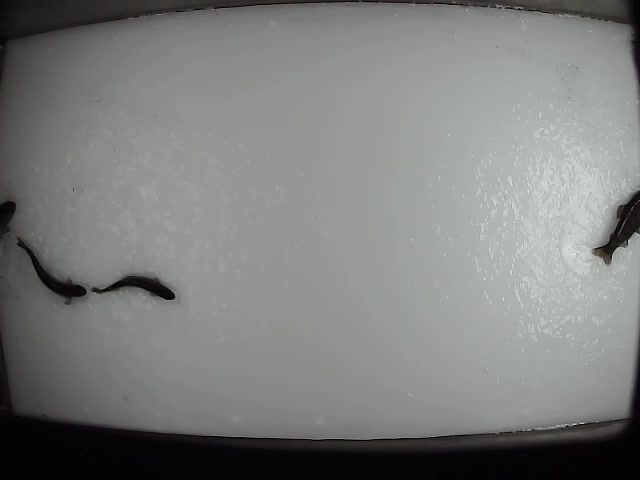Fish: (17, 234, 87, 306), (91, 275, 175, 300)
